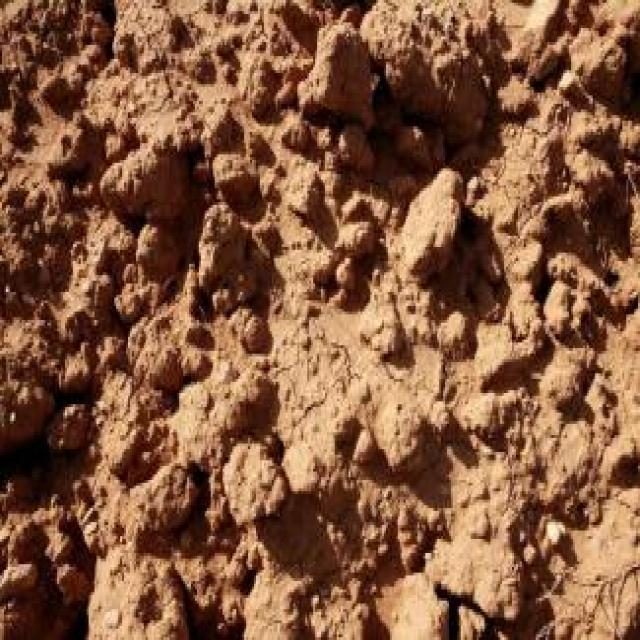Clay Soil: (41, 65, 580, 547)
